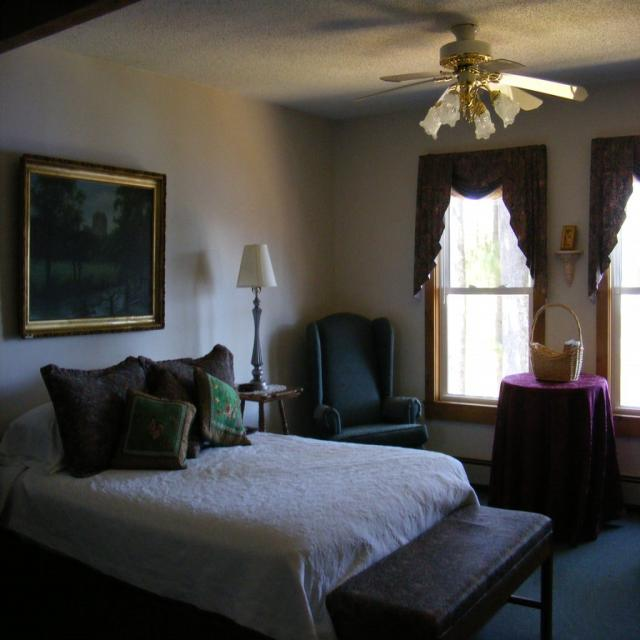Bulb: (352, 24, 588, 140)
